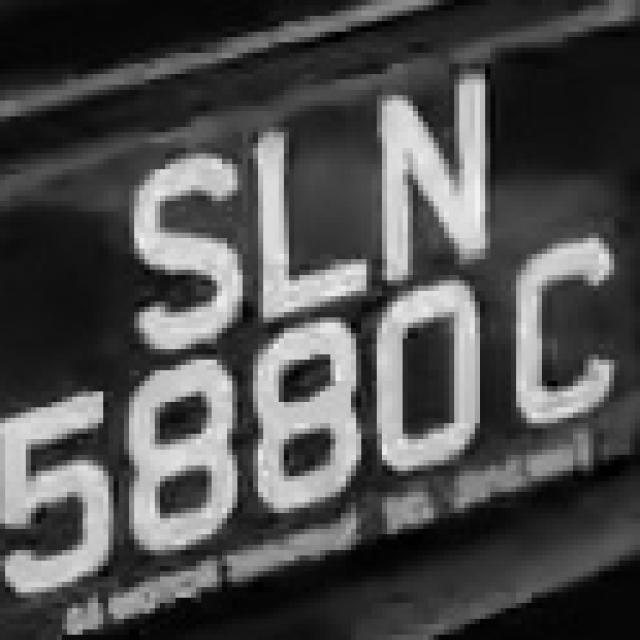0: (340, 291, 500, 476)
5: (5, 370, 119, 614)
8: (238, 302, 387, 550), (103, 344, 258, 566)
C: (511, 243, 624, 450)
L: (237, 106, 377, 328)
N: (356, 63, 511, 270)
S: (124, 122, 242, 354)
